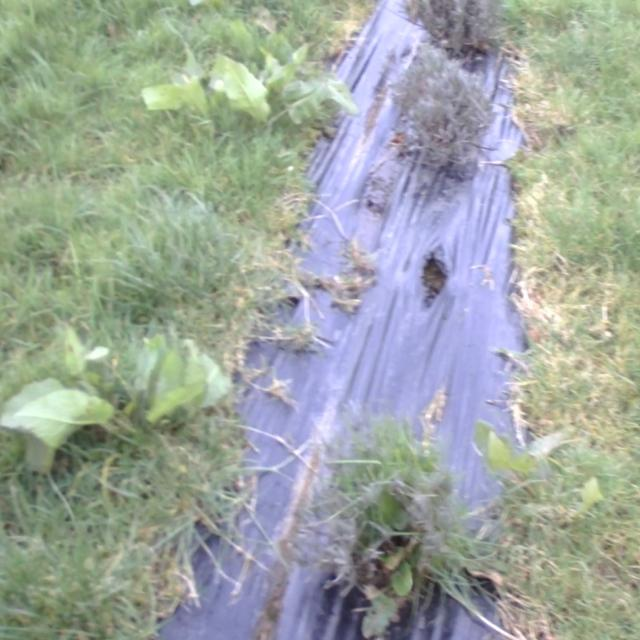organic waste: (7, 306, 226, 484), (151, 27, 358, 144), (448, 402, 584, 501), (562, 459, 619, 521), (374, 553, 430, 602)
